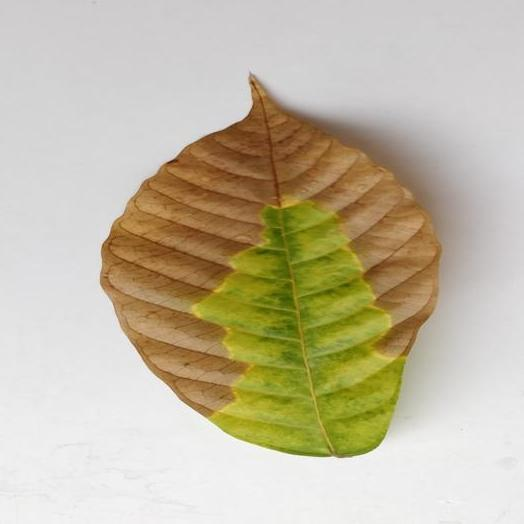Potassium: (102, 76, 439, 457)
